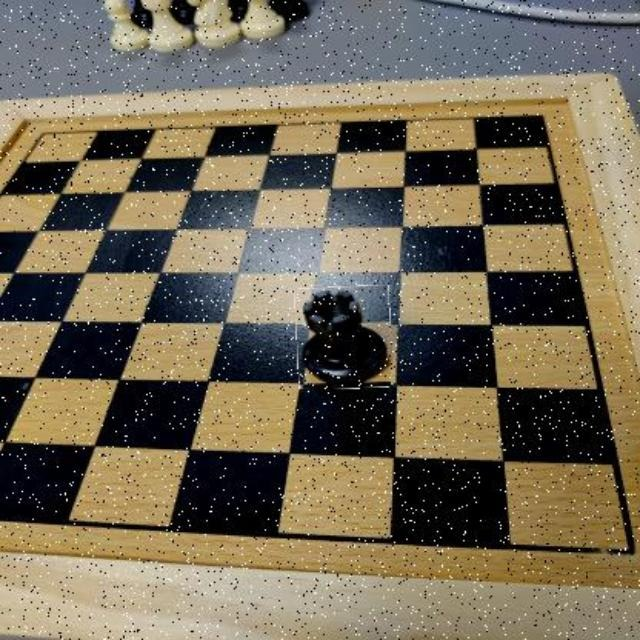black-rook: (296, 286, 391, 389)
